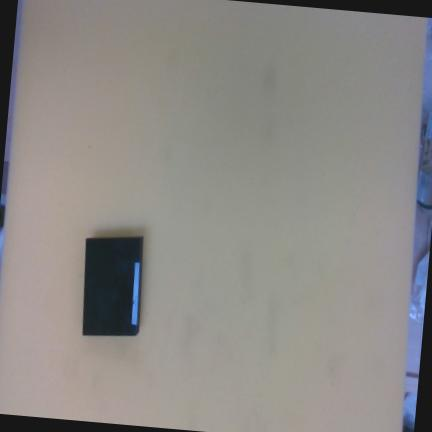tile: (82, 234, 142, 337)
